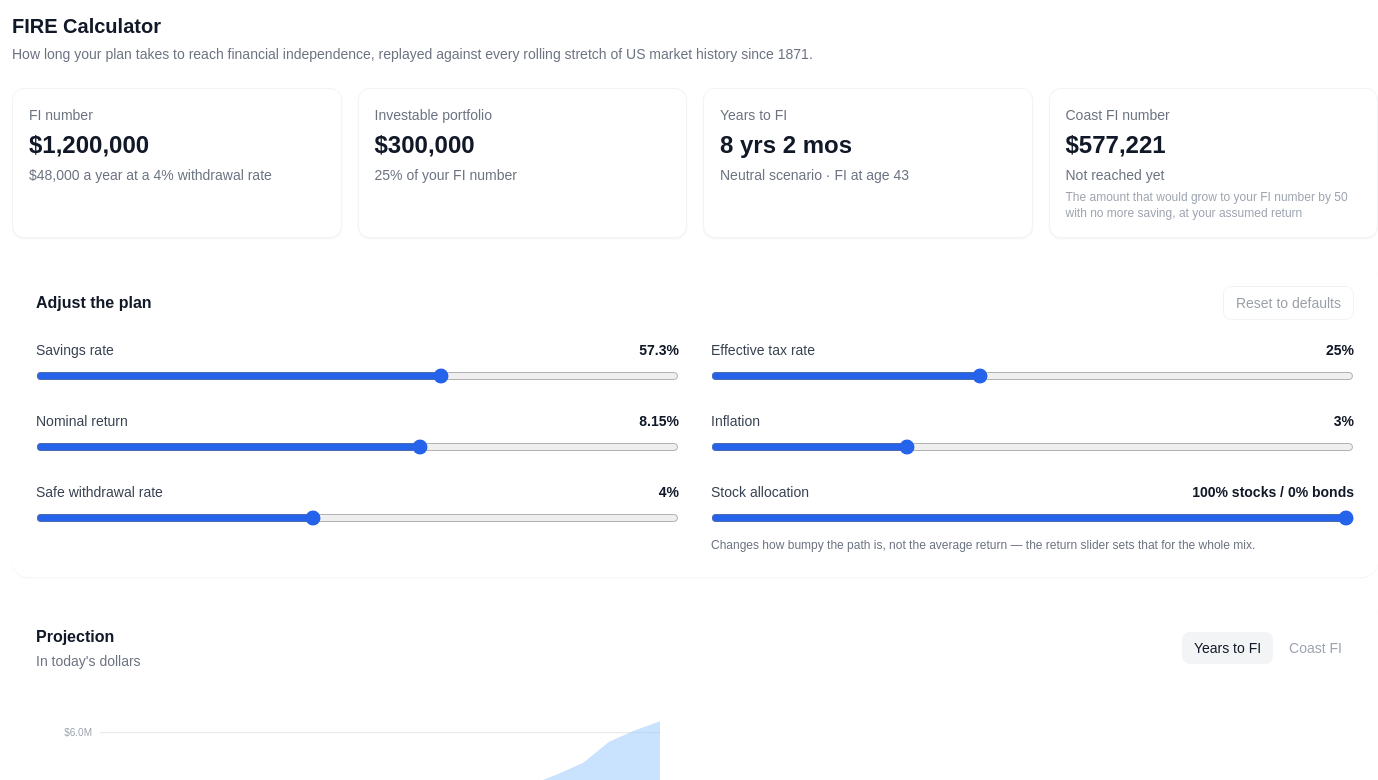
Test: FireCalculatorClient › reset restores the defaults
Expected: the button "Reset to defaults" is disabled, [1223,286,1354,320]
Set the slider labelled "Safe withdrawal rate" to "3": (134,518) [36,510,679,526]
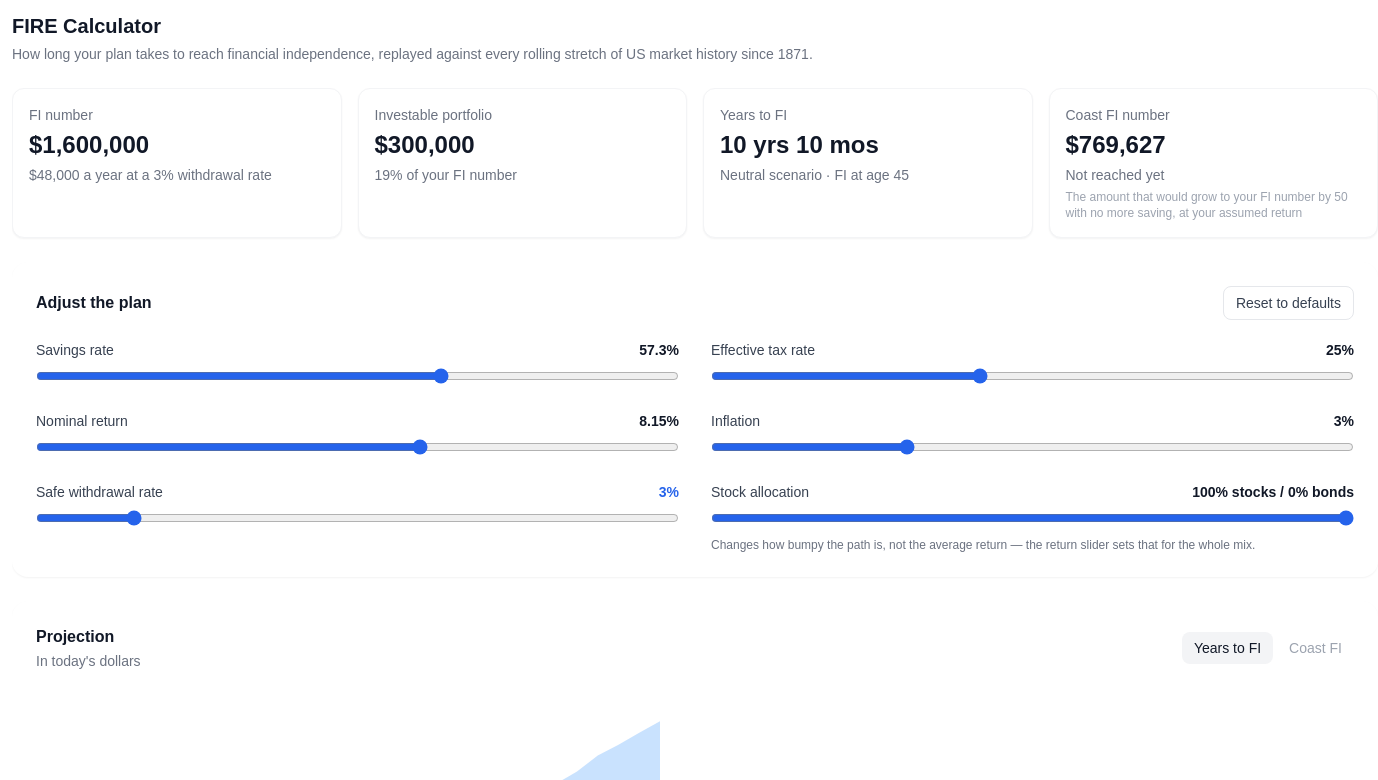
Set the slider labelled "Stock allocation" to "60": (1095,518) [711,510,1354,526]
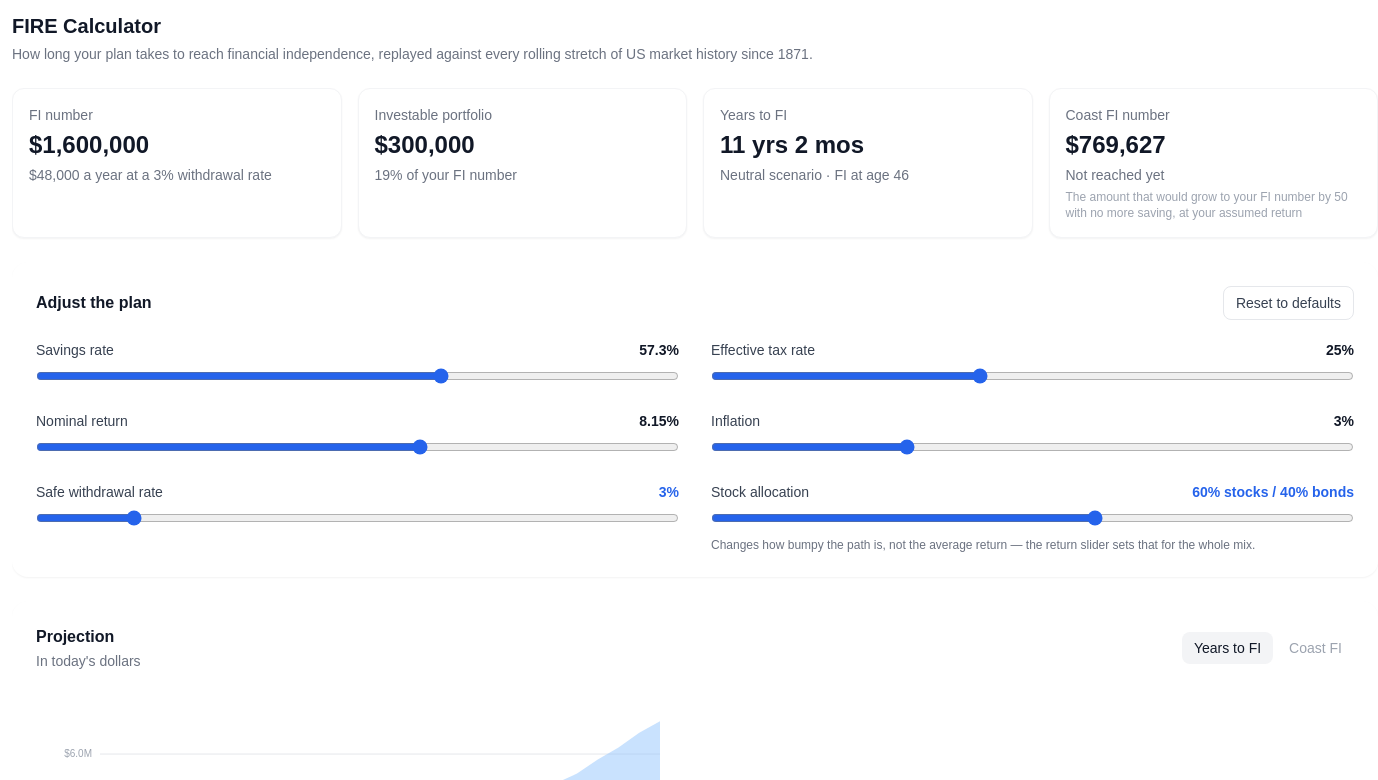
Expected: the button "Reset to defaults" is enabled
Click the button "Reset to defaults": (1288,303) [1223,286,1354,320]
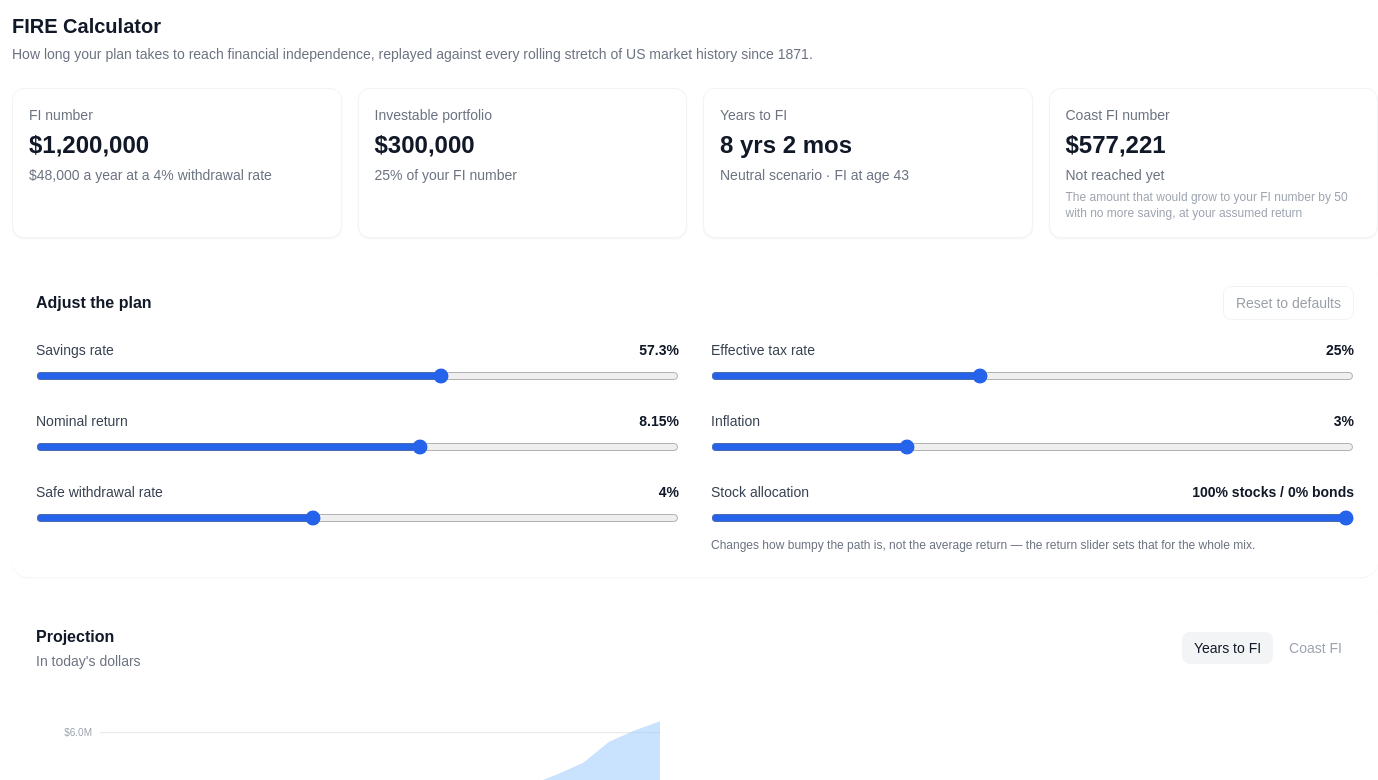
Expected: the slider labelled "Safe withdrawal rate" holds "4", [36,510,679,526]
Expected: the slider labelled "Stock allocation" holds "100", [711,510,1354,526]
Expected: the button "Reset to defaults" is disabled, [1223,286,1354,320]
